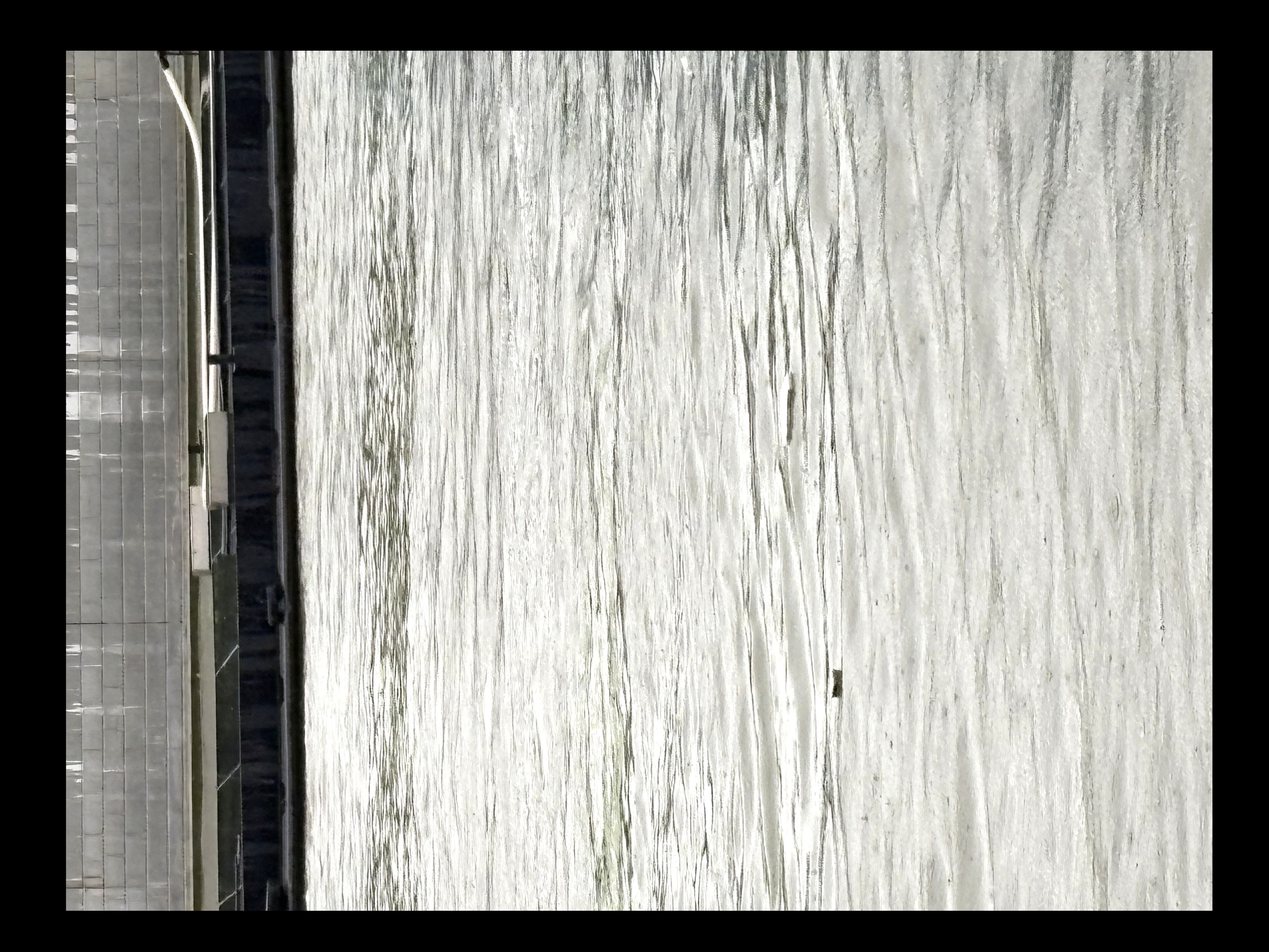Plastic wastes: (796, 363, 813, 434), (846, 657, 868, 688)
